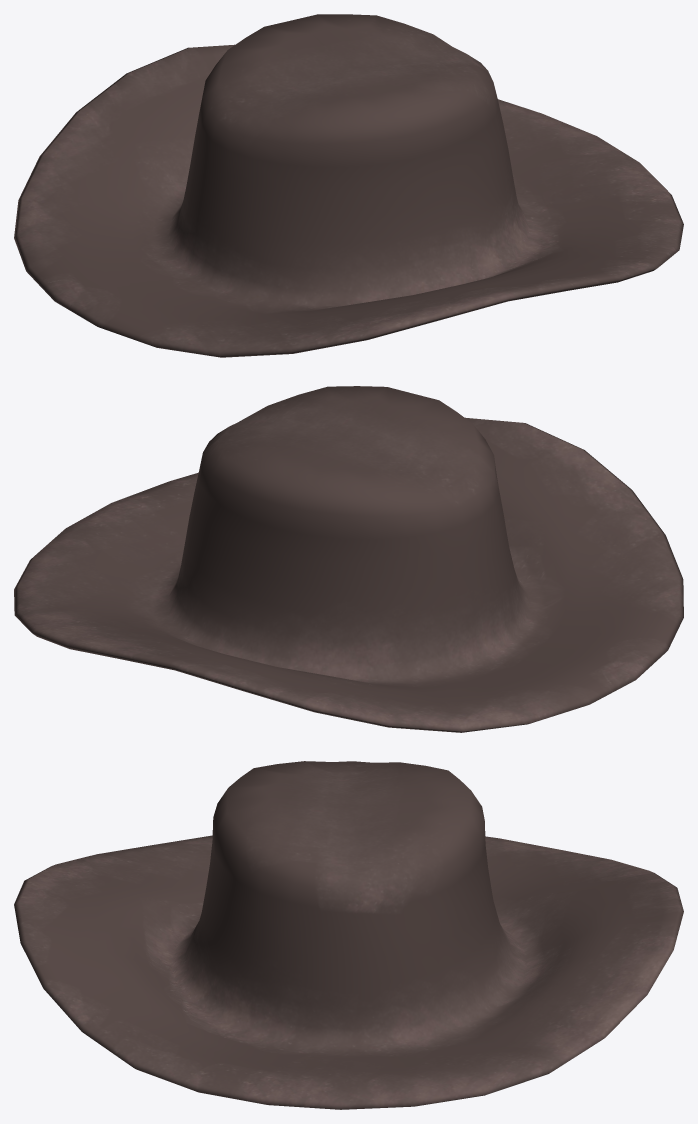
Rendered from CowboyHat.glb.
The picture shows the model from 3 angles, top to bottom: view 1: azimuth 30°, elevation 25°; view 2: azimuth 150°, elevation 25°; view 3: azimuth 270°, elevation 25°; orthographic projection.
Visible parts, largest first — view 1: cowboyhat; view 2: cowboyhat; view 3: cowboyhat.
Boxes of the visible parts, left/top/right/bottom form: cowboyhat: left=14, top=14, right=683, bottom=357; cowboyhat: left=14, top=386, right=683, bottom=732; cowboyhat: left=14, top=761, right=683, bottom=1109.
Size of the model in its own units: 7.49 by 2.25 by 7.53.
Materials: 1 (1 with a texture image).
